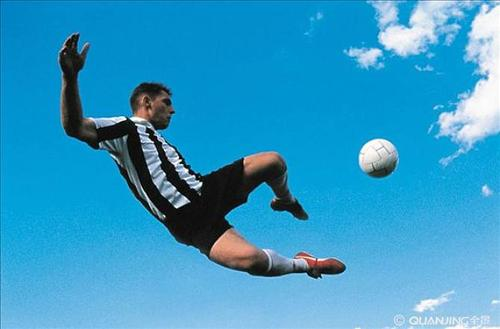football: (356, 138, 409, 181)
